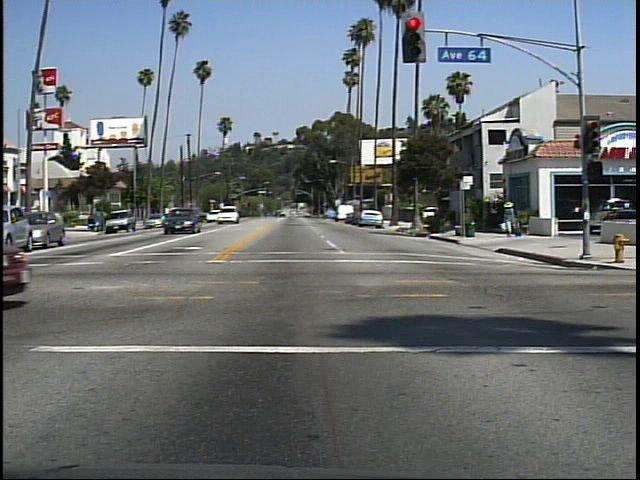person: (497, 194, 524, 245)
